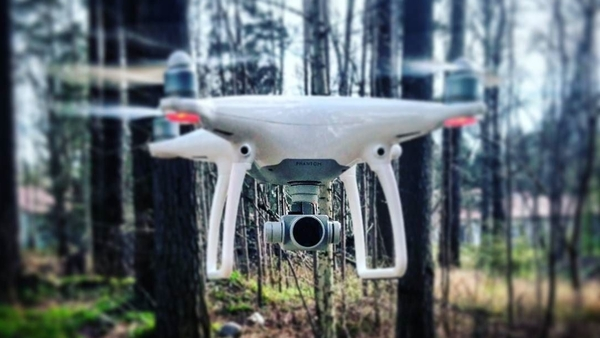drone: (135, 49, 486, 284)
